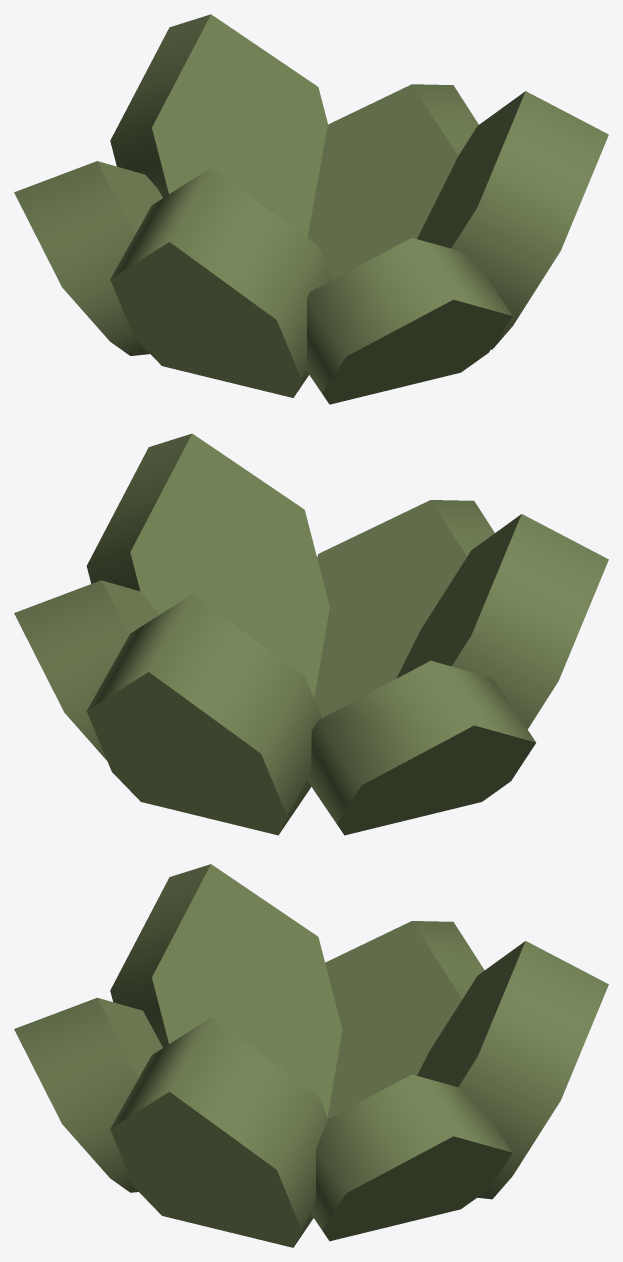
File: bush.glb
3 renders of one model, top to bottom at view 1: azimuth 30°, elevation 25°; view 2: azimuth 150°, elevation 25°; view 3: azimuth 270°, elevation 25°, orthographic. The views are drawn at different scales.
Visible parts, largest first — view 1: Coastal Bush; view 2: Coastal Bush; view 3: Coastal Bush.
Part boxes in pixels (bbox=[...]): Coastal Bush: bbox=[14, 14, 608, 404]; Coastal Bush: bbox=[14, 433, 608, 835]; Coastal Bush: bbox=[14, 864, 608, 1247].
Bounding box in the file's own units: 1.39 × 0.65 × 1.55.
